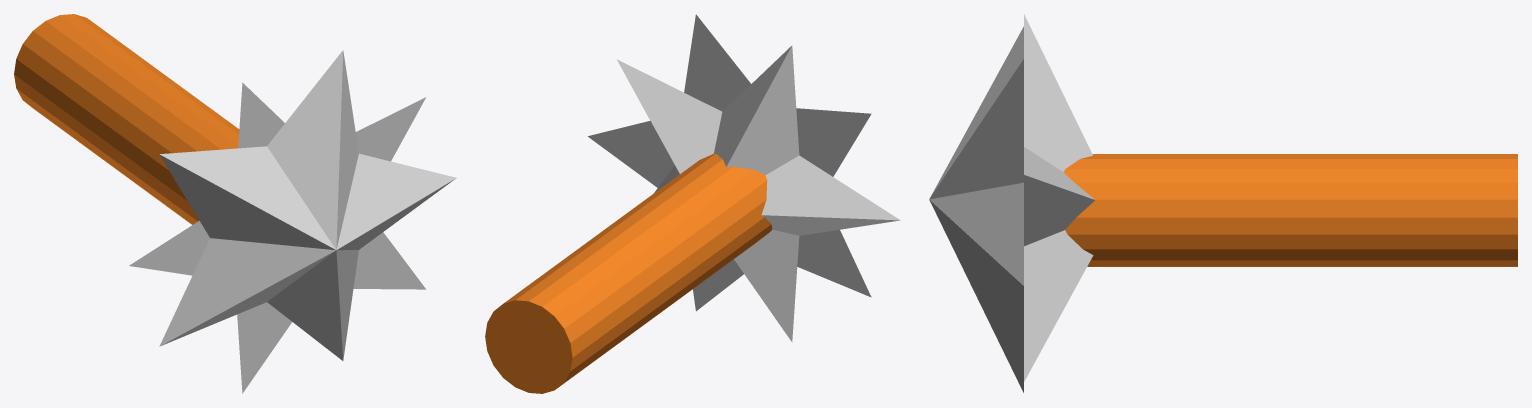
File: palma.obj
3 views of the same model, side by side, from view 1: azimuth 30°, elevation 25°; view 2: azimuth 150°, elevation 25°; view 3: azimuth 270°, elevation 25° (orthographic). The views are drawn at different scales.
Parts seen in each view (by area): view 1: group_0_4634441, group_0_16089887; view 2: group_0_4634441, group_0_16089887; view 3: group_0_16089887, group_0_4634441.
Part boxes in pixels (<box>): group_0_4634441: <box>129,50,456,393</box>; group_0_16089887: <box>14,14,239,224</box>; group_0_4634441: <box>588,14,900,342</box>; group_0_16089887: <box>485,153,772,393</box>; group_0_16089887: <box>1063,154,1517,266</box>; group_0_4634441: <box>929,14,1095,392</box>.
Bounding box in the file's own units: 43 × 40 × 62.
